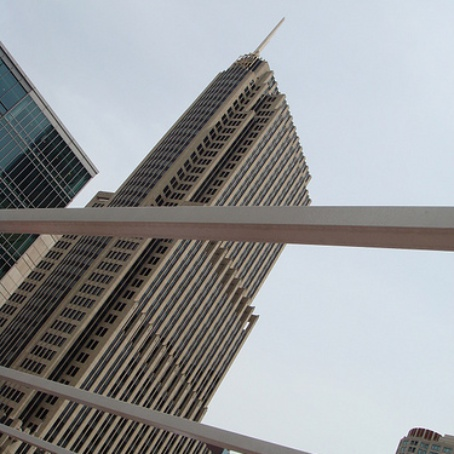building: (1, 58, 333, 454), (1, 45, 98, 283)
sky: (241, 1, 454, 453), (10, 2, 454, 94)
